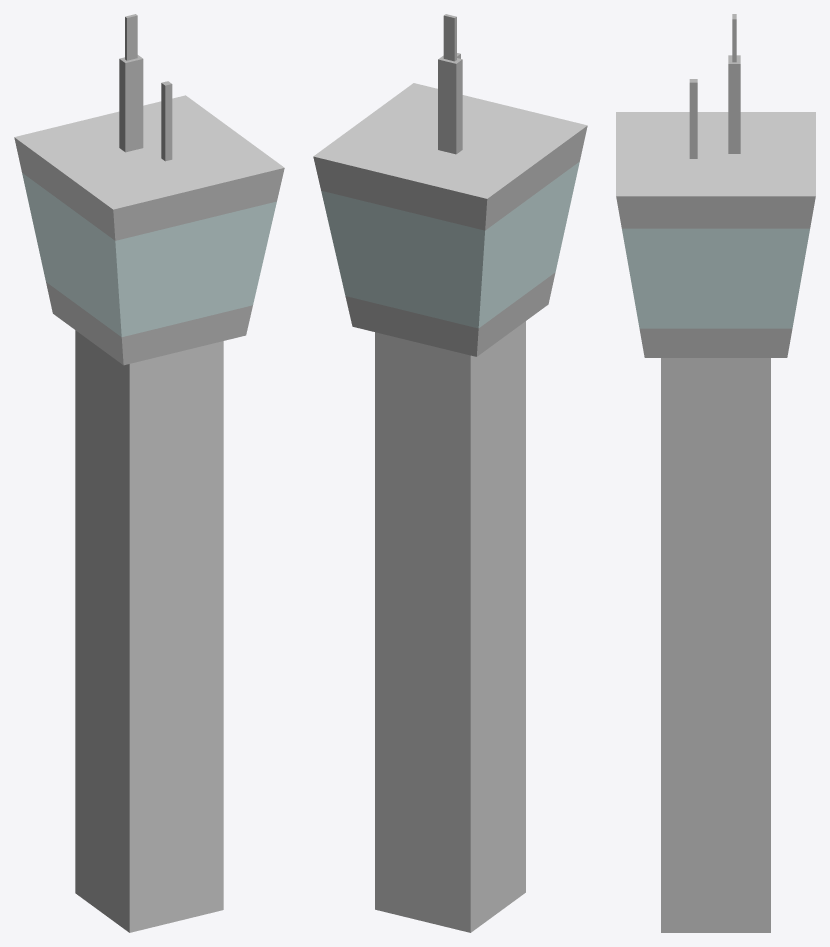
The model's file is tower.fbx.
The picture shows the model from 3 angles, left to right: view 1: azimuth 30°, elevation 25°; view 2: azimuth 150°, elevation 25°; view 3: azimuth 270°, elevation 25°; orthographic projection.
Parts seen in each view (by area): view 1: tower; view 2: tower; view 3: tower.
Boxes of the visible parts, bbox=[...] form: tower: bbox=[14, 14, 284, 932]; tower: bbox=[313, 14, 587, 932]; tower: bbox=[616, 14, 815, 932].
Size of the model in its own units: 3640 by 17867 by 3640.
